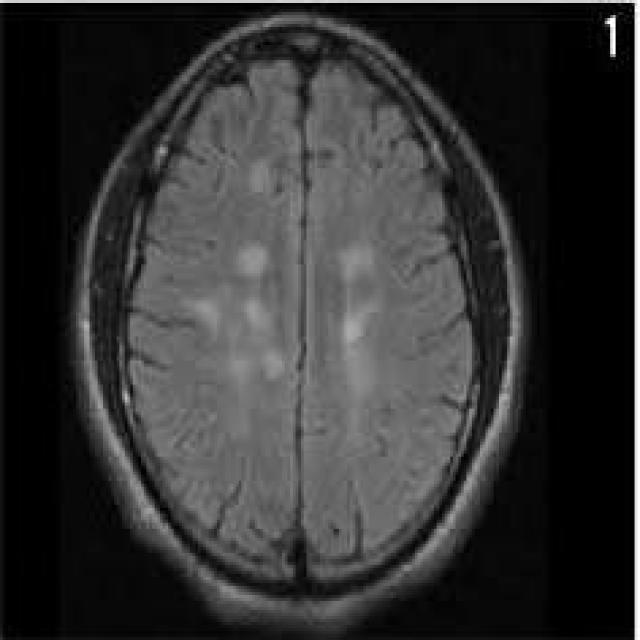notumor: (73, 12, 526, 631)
